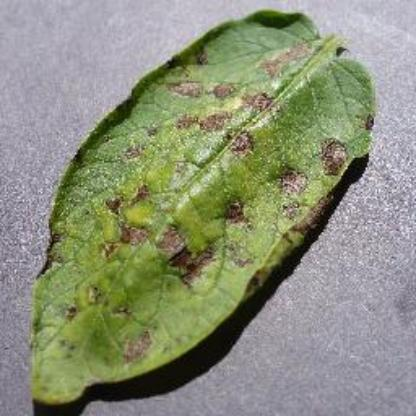Early-Blight: (26, 8, 376, 404)
